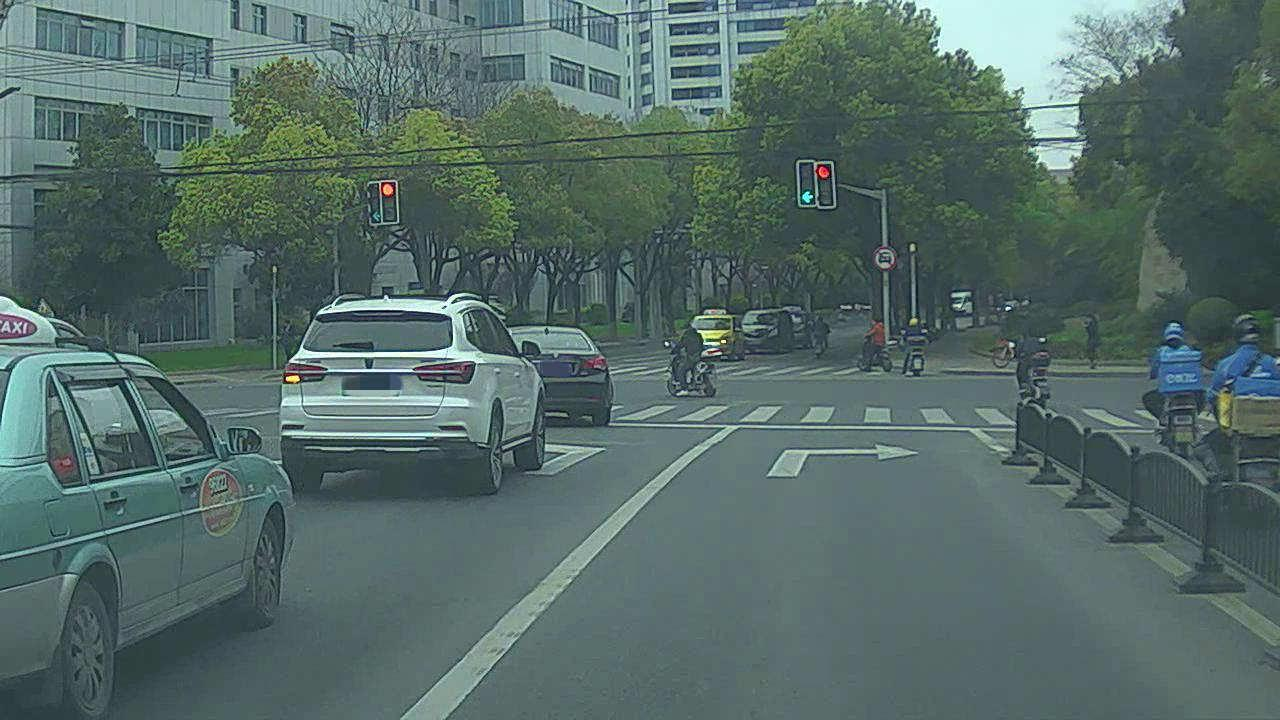traffic_light: (378, 179, 401, 219), (816, 157, 835, 205), (795, 159, 814, 205), (364, 181, 381, 222)
